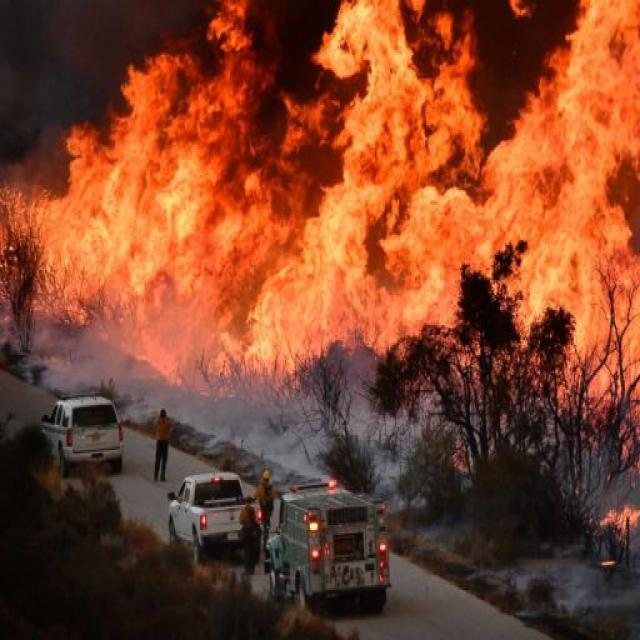fire: (70, 134, 463, 328), (516, 8, 640, 357)
